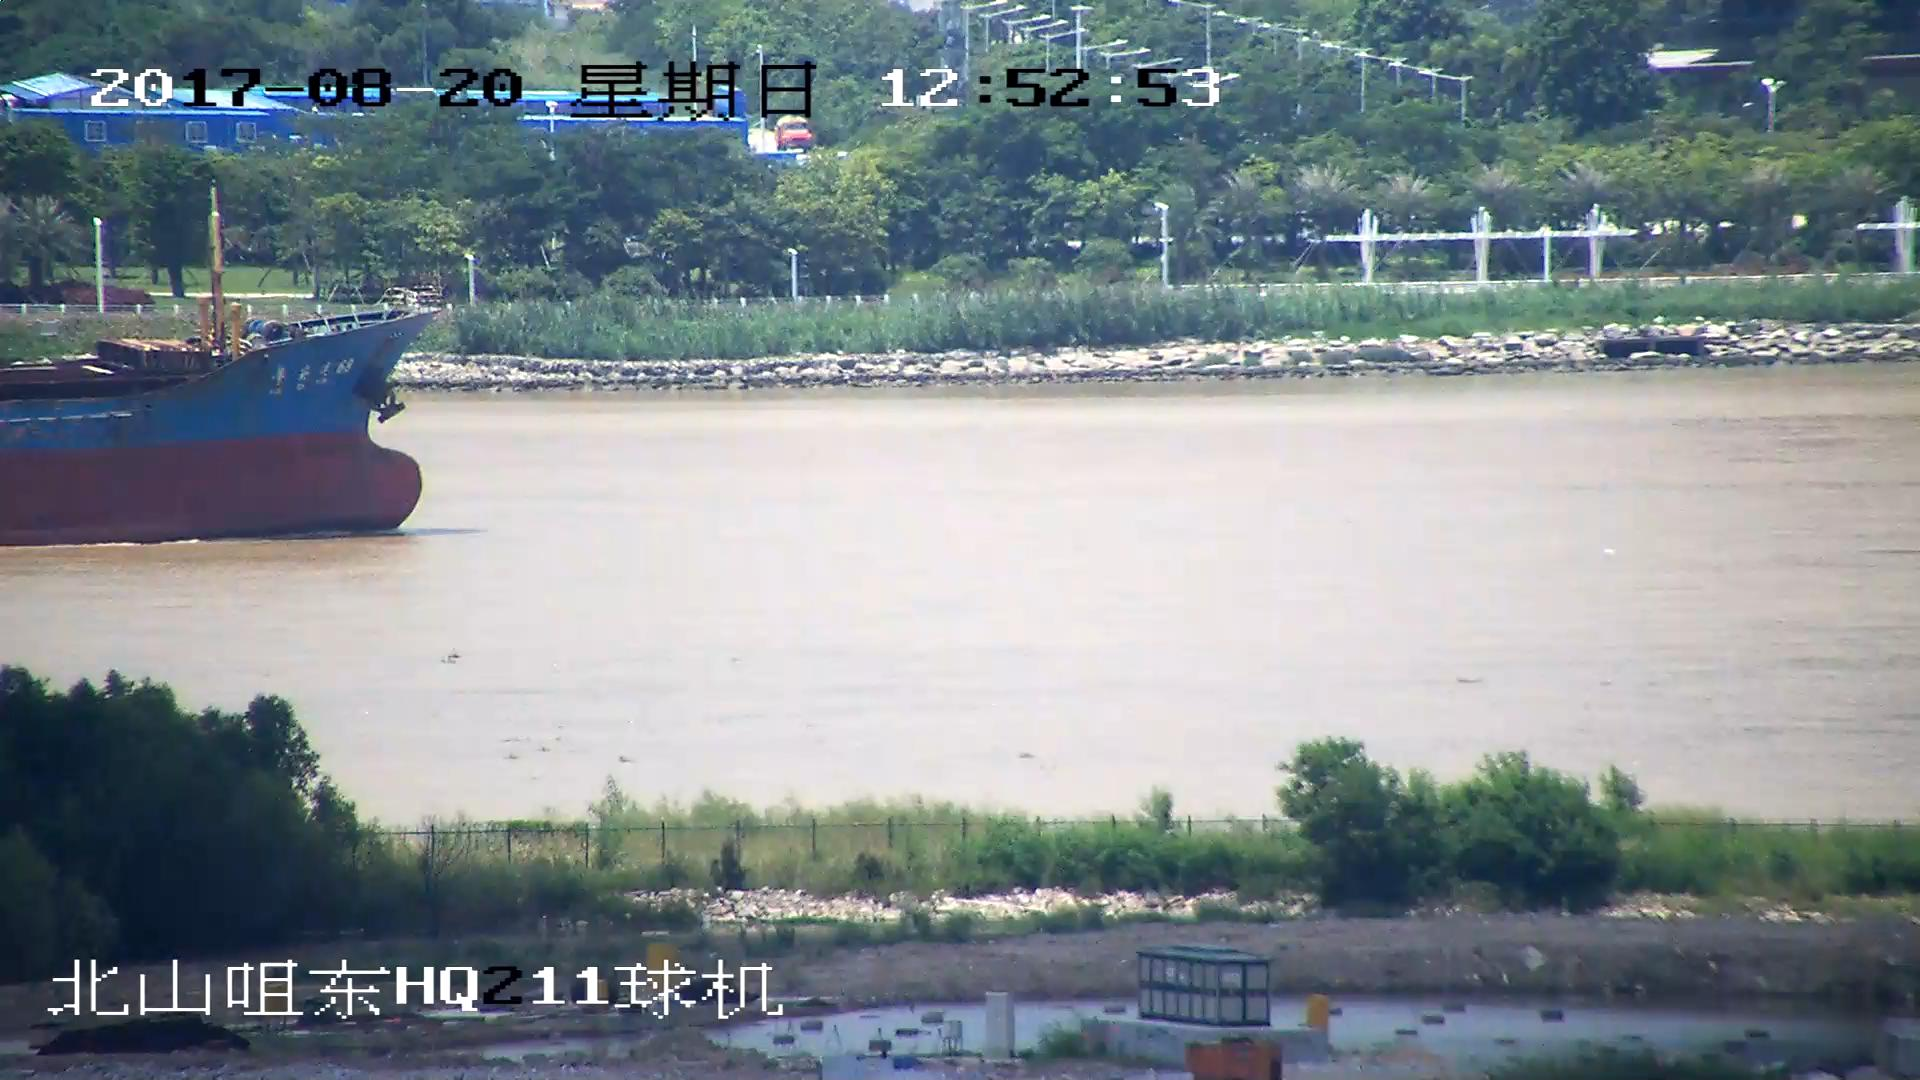general cargo ship: (1, 294, 444, 543)
